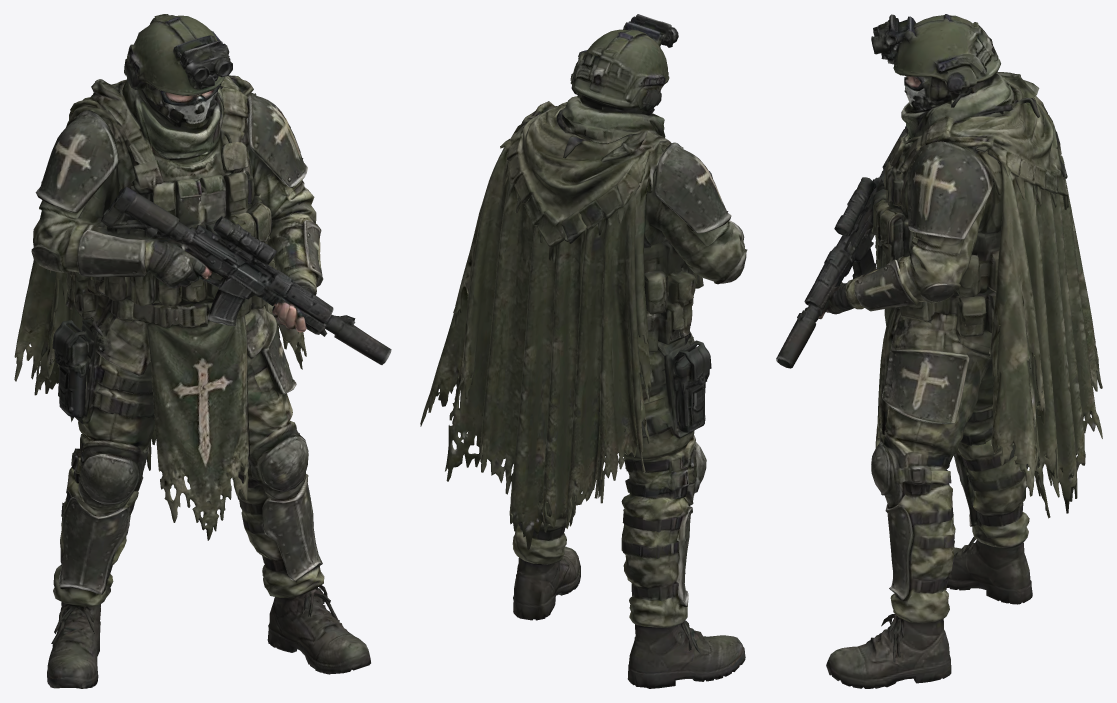
The model's file is ancient-soldier.glb.
3 renders of one model, left to right at view 1: azimuth 30°, elevation 25°; view 2: azimuth 150°, elevation 25°; view 3: azimuth 270°, elevation 25°, orthographic. The views are drawn at different scales.
Visible parts, largest first — view 1: tripo_node_d320559c-a235-44e5-ba57-2d989293e51f; view 2: tripo_node_d320559c-a235-44e5-ba57-2d989293e51f; view 3: tripo_node_d320559c-a235-44e5-ba57-2d989293e51f.
Boxes of the visible parts, x1,y1,x2,y2 form: tripo_node_d320559c-a235-44e5-ba57-2d989293e51f: (14, 14, 391, 688); tripo_node_d320559c-a235-44e5-ba57-2d989293e51f: (420, 14, 747, 688); tripo_node_d320559c-a235-44e5-ba57-2d989293e51f: (776, 14, 1102, 688).
Bounding box in the file's own units: 0.4848 × 0.9806 × 0.4762.
1 material, 1 textured.
